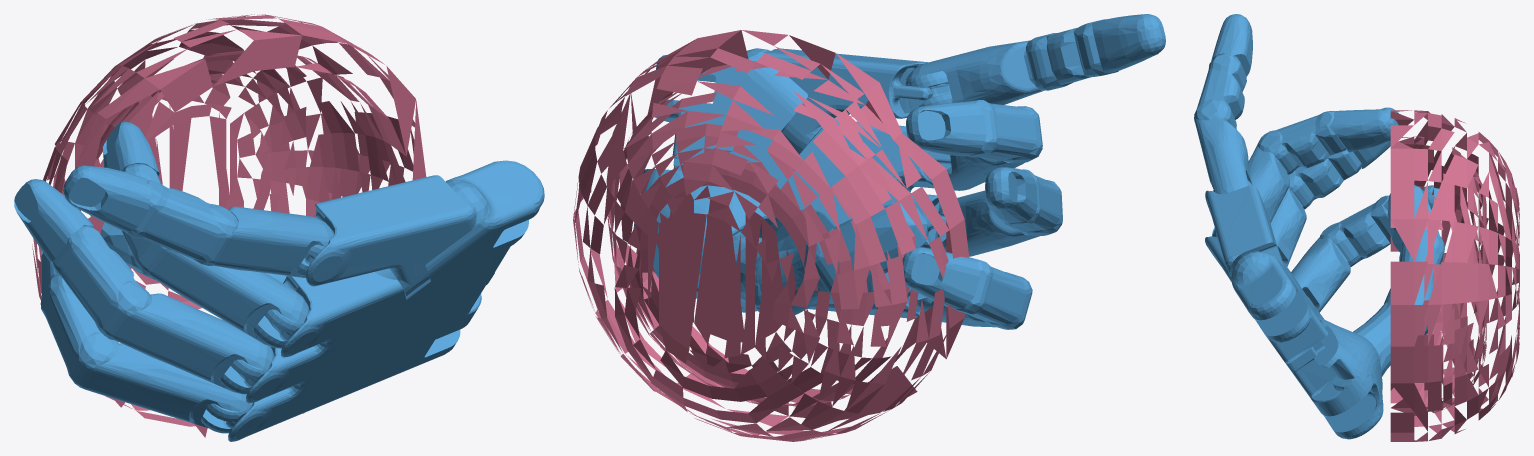
The picture shows the model from 3 angles, left to right: view 1: azimuth 30°, elevation 25°; view 2: azimuth 150°, elevation 25°; view 3: azimuth 270°, elevation 25°; orthographic projection. The views are drawn at different scales.
Parts seen in each view (by area): view 1: 9; view 2: 9; view 3: 9.
Part boxes in pixels (bbox=[...]): 9: bbox=[14, 14, 544, 441]; 9: bbox=[573, 14, 1165, 441]; 9: bbox=[1194, 14, 1519, 441].
Size of the model in its own units: 0.1848 by 0.1437 by 0.1367.
